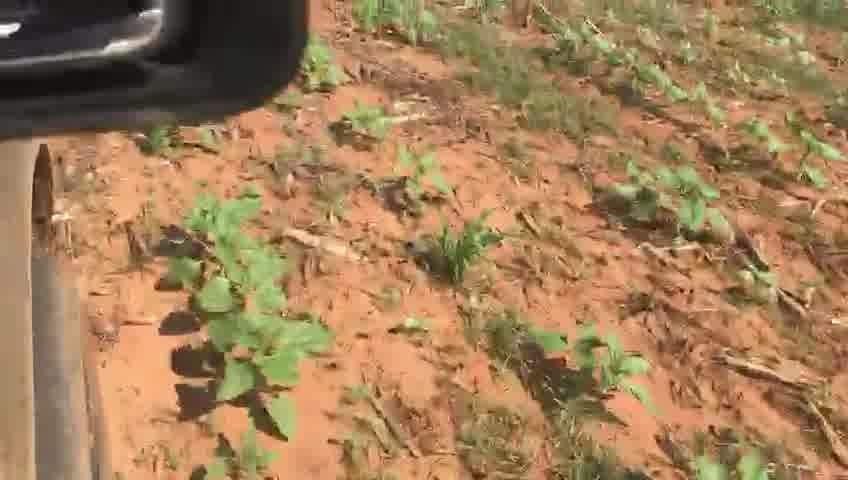sunflower: (206, 311, 340, 441), (171, 227, 303, 318), (564, 316, 655, 407), (625, 163, 720, 242), (178, 183, 283, 245), (389, 136, 463, 205), (675, 431, 784, 475), (292, 39, 353, 98), (340, 91, 401, 149), (781, 127, 839, 184), (725, 114, 785, 156)
